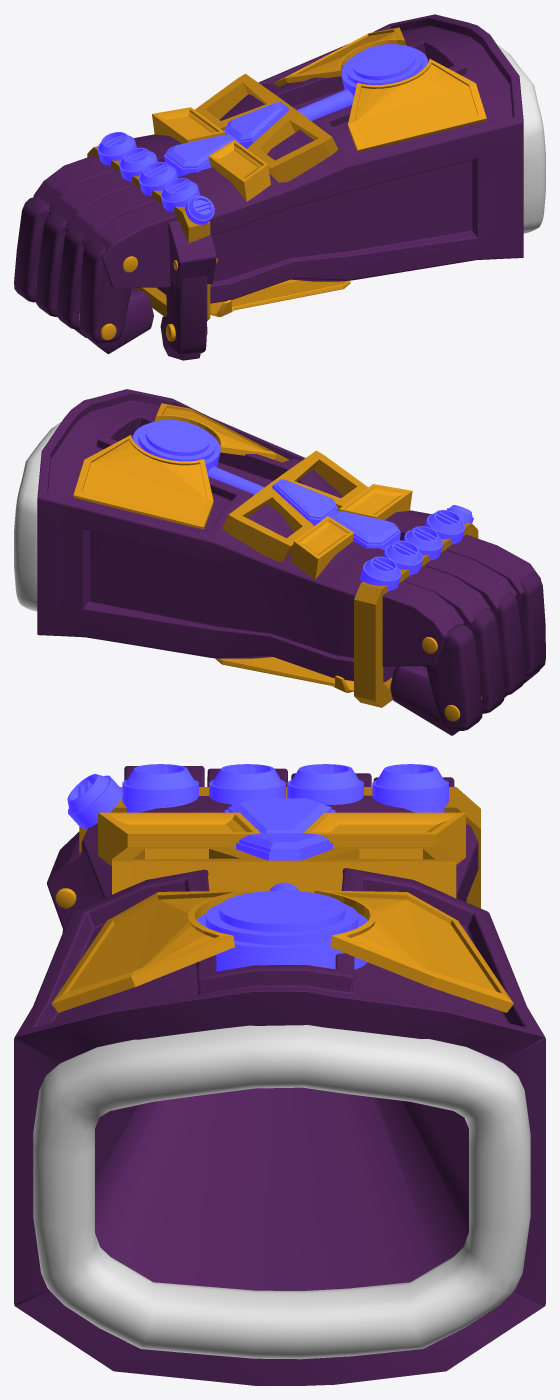
The model's file is SH_Gauntlet_R_001.fbx.
3 renders of one model, top to bottom at view 1: azimuth 30°, elevation 25°; view 2: azimuth 150°, elevation 25°; view 3: azimuth 270°, elevation 25°, orthographic. The views are drawn at different scales.
Visible parts, largest first — view 1: SH_Gauntlet_Base, SH_Gauntlet_01_a_001, SH_Gauntlet_F_01_b_001, SH_Gauntlet_02_001, SH_Gauntlet_F_02_d_001, SH_Gauntlet_hand_glove, SH_Gauntlet_Core_001, SH_Gauntlet_F_02_b_001, SH_Gauntlet_F_02_a_001, SH_Gauntlet_F_02_c_001, SH_Gauntlet_03_a_001, SH_Gauntlet_F_01_e_001 (+17 smaller); view 2: SH_Gauntlet_Base, SH_Gauntlet_01_b_001, SH_Gauntlet_02_001, SH_Gauntlet_F_01_a_001, SH_Gauntlet_band_001, SH_Gauntlet_F_02_a_001, SH_Gauntlet_hand_glove, SH_Gauntlet_Core_001, SH_Gauntlet_F_02_c_001, SH_Gauntlet_03_b_001, SH_Gauntlet_F_02_d_001, SH_Gauntlet_F_02_e_001 (+14 smaller); view 3: SH_Gauntlet_Base, SH_Gauntlet_hand_glove, SH_Gauntlet_02_001, SH_Gauntlet_01_b_001, SH_Gauntlet_01_a_001, SH_Gauntlet_Core_001, SH_Gauntlet_03_a_001, SH_Gauntlet_03_b_001, SH_Gauntlet_button_e_001, SH_Gauntlet_button_a_001, SH_Gauntlet_Core_02_b_001, SH_Gauntlet_button_d_001 (+5 smaller).
Part boxes in pixels (left/top/right/bottom): SH_Gauntlet_Base: left=134, top=14, right=523, bottom=303; SH_Gauntlet_01_a_001: left=348, top=59, right=486, bottom=151; SH_Gauntlet_F_01_b_001: left=83, top=201, right=177, bottom=288; SH_Gauntlet_02_001: left=195, top=73, right=338, bottom=182; SH_Gauntlet_F_02_d_001: left=80, top=239, right=131, bottom=343; SH_Gauntlet_hand_glove: left=496, top=43, right=545, bottom=233; SH_Gauntlet_Core_001: left=341, top=44, right=428, bottom=96; SH_Gauntlet_F_02_b_001: left=166, top=276, right=207, bottom=355; SH_Gauntlet_F_02_a_001: left=14, top=196, right=49, bottom=302; SH_Gauntlet_F_02_c_001: left=35, top=212, right=66, bottom=316; SH_Gauntlet_03_a_001: left=208, top=140, right=270, bottom=201; SH_Gauntlet_F_01_e_001: left=168, top=220, right=216, bottom=288; SH_Gauntlet_Base: left=37, top=389, right=431, bottom=682; SH_Gauntlet_01_b_001: left=73, top=435, right=213, bottom=529; SH_Gauntlet_02_001: left=222, top=450, right=367, bottom=561; SH_Gauntlet_F_01_a_001: left=382, top=581, right=464, bottom=666; SH_Gauntlet_band_001: left=354, top=522, right=478, bottom=707; SH_Gauntlet_F_02_a_001: left=426, top=623, right=482, bottom=730; SH_Gauntlet_hand_glove: left=14, top=421, right=61, bottom=611; SH_Gauntlet_Core_001: left=132, top=420, right=220, bottom=472; SH_Gauntlet_F_02_c_001: left=471, top=608, right=504, bottom=713; SH_Gauntlet_03_b_001: left=291, top=516, right=354, bottom=579; SH_Gauntlet_F_02_d_001: left=518, top=572, right=545, bottom=676; SH_Gauntlet_F_02_e_001: left=496, top=591, right=525, bottom=695; SH_Gauntlet_Base: left=14, top=795, right=545, bottom=1385; SH_Gauntlet_hand_glove: left=33, top=1025, right=530, bottom=1359; SH_Gauntlet_02_001: left=112, top=846, right=456, bottom=898; SH_Gauntlet_01_b_001: left=314, top=890, right=513, bottom=1012; SH_Gauntlet_01_a_001: left=51, top=890, right=250, bottom=1012; SH_Gauntlet_Core_001: left=196, top=890, right=367, bottom=971; SH_Gauntlet_03_a_001: left=98, top=812, right=260, bottom=866; SH_Gauntlet_03_b_001: left=303, top=812, right=465, bottom=864; SH_Gauntlet_button_e_001: left=372, top=764, right=448, bottom=812; SH_Gauntlet_button_a_001: left=122, top=764, right=198, bottom=812; SH_Gauntlet_Core_02_b_001: left=224, top=798, right=335, bottom=833; SH_Gauntlet_button_d_001: left=287, top=764, right=363, bottom=804.
Bounding box in the file's own units: 0.6281 × 0.295 × 0.3244.
